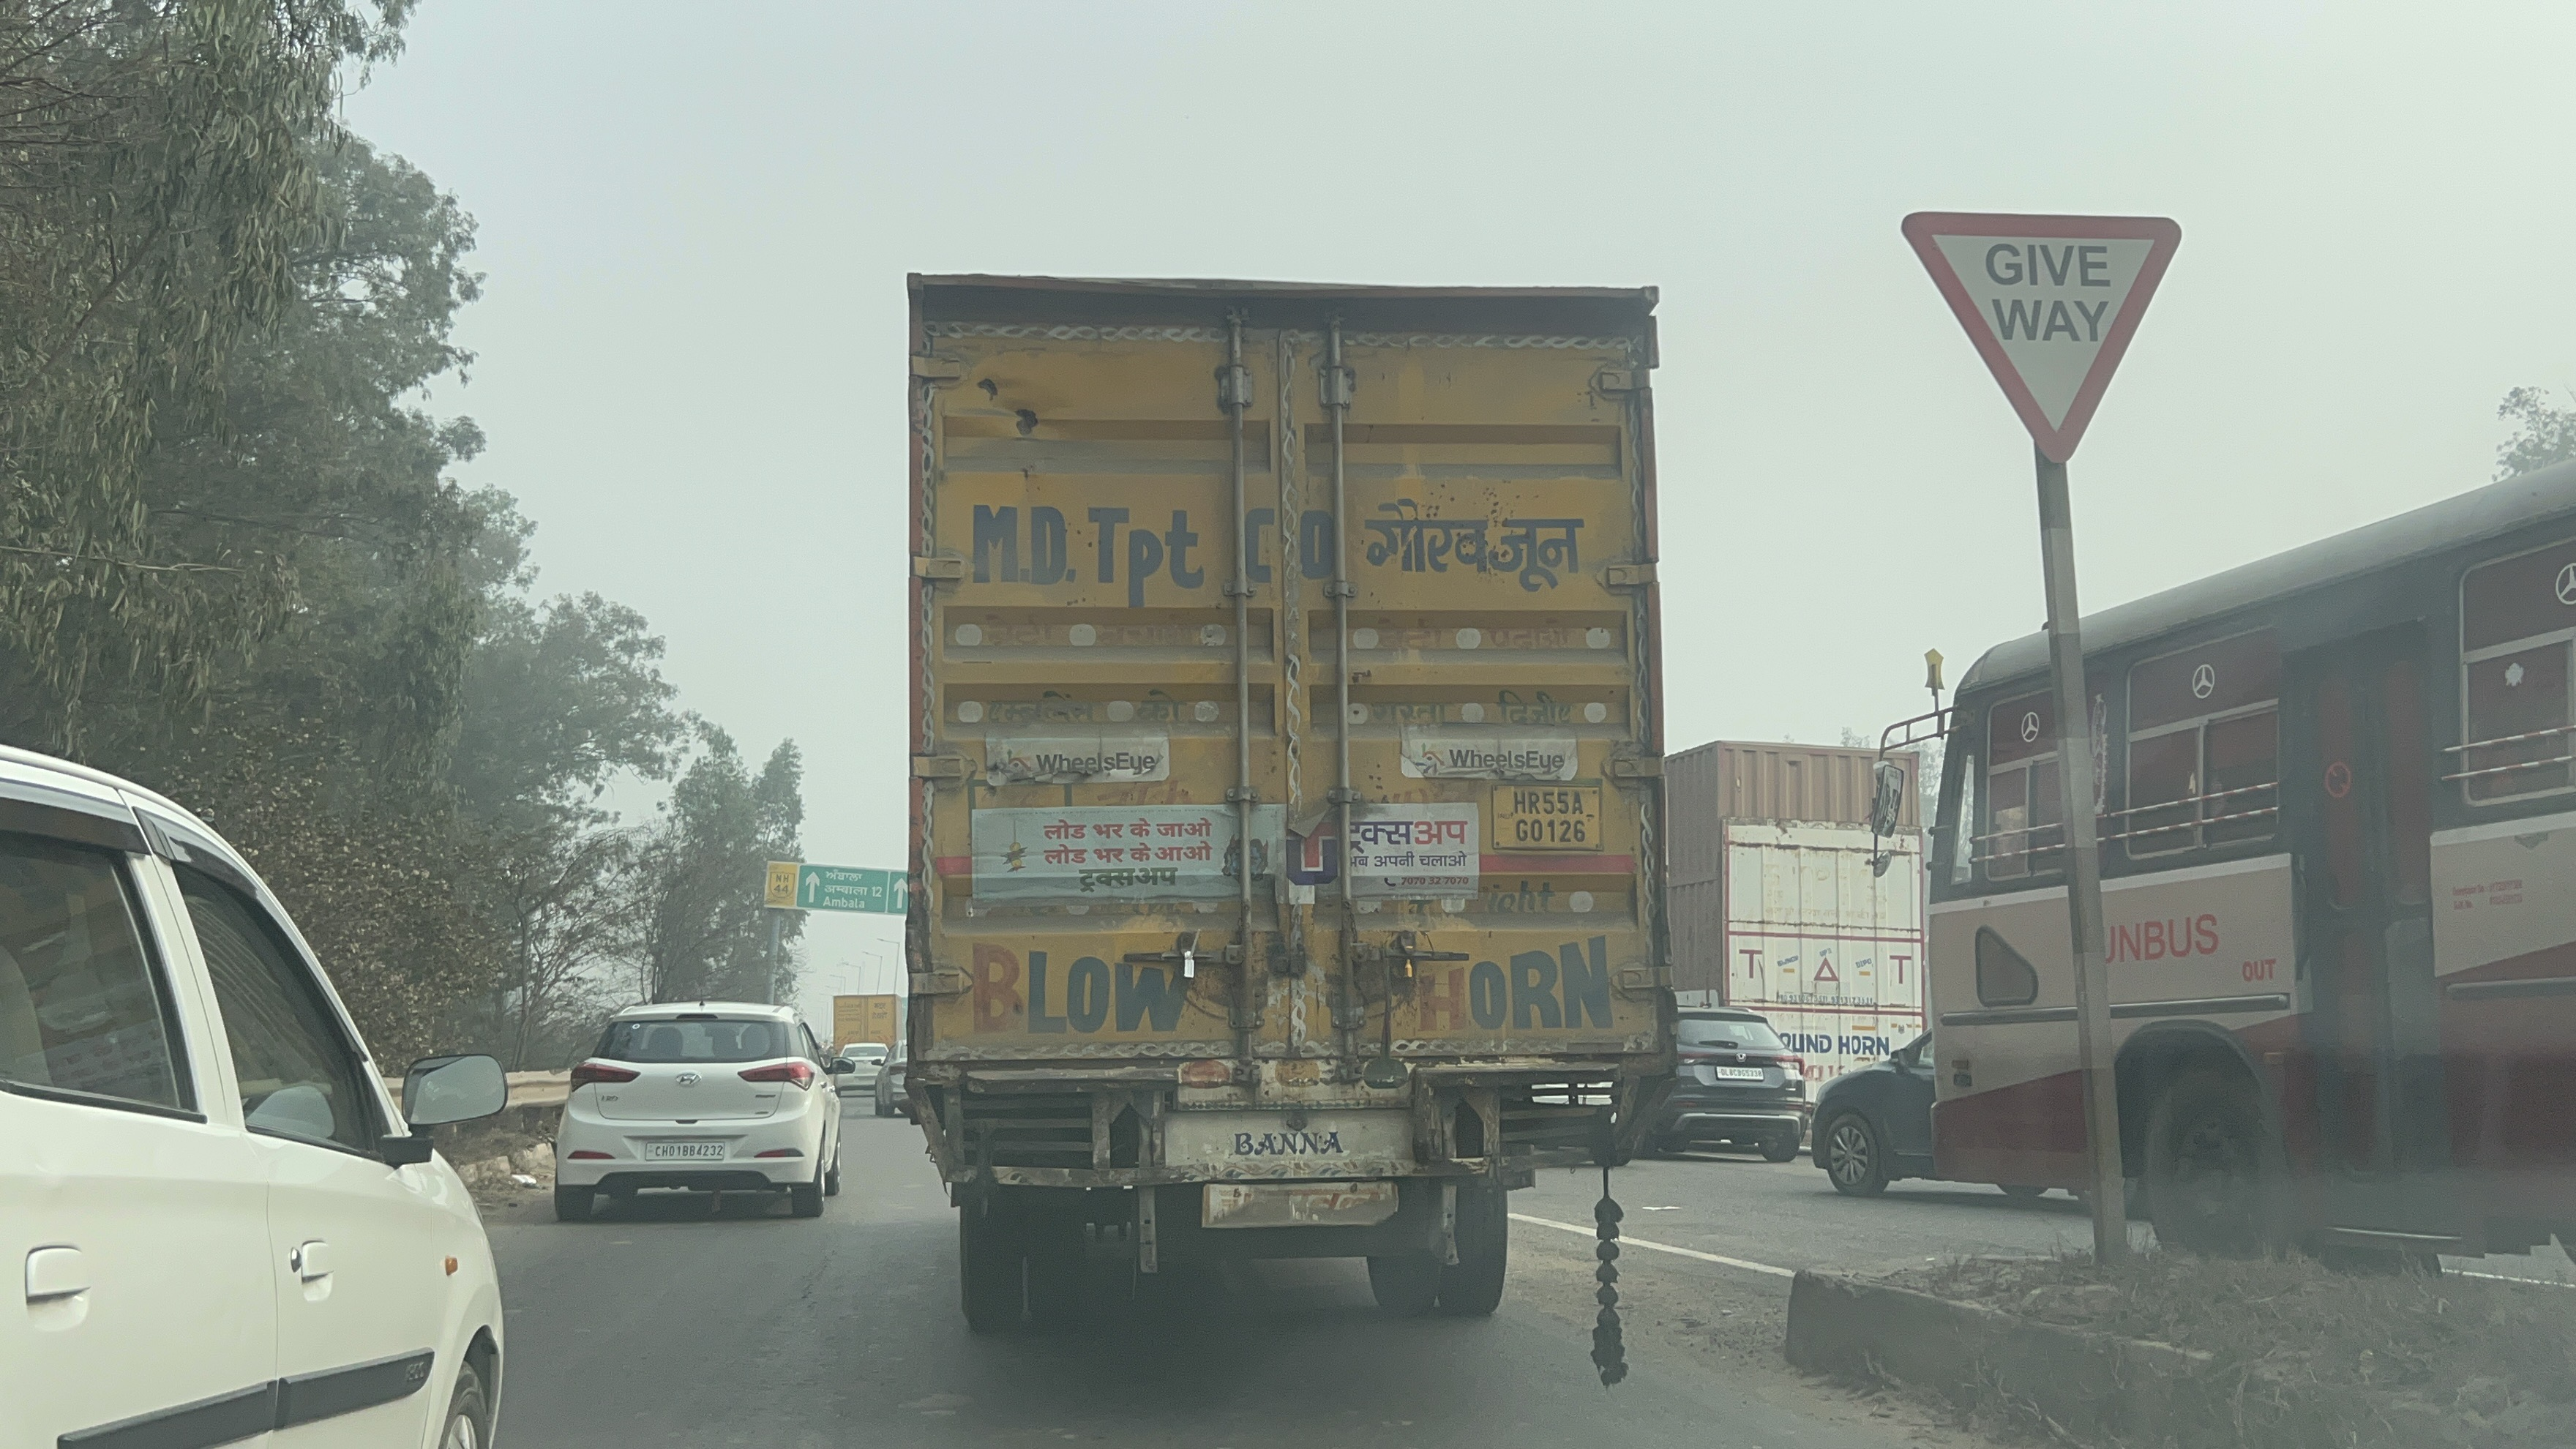Informatory: (796, 853, 915, 925)
Warning: (1884, 188, 2190, 481)
